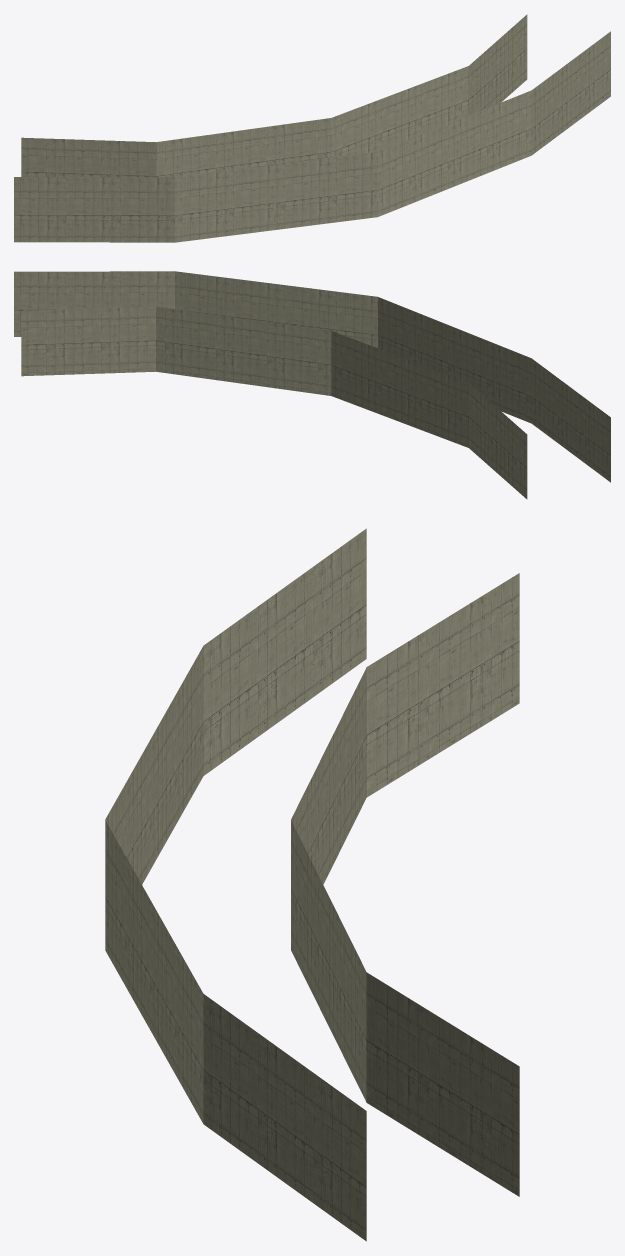
File: SM_Republic_06_00.fbx
3 views of the same model, one above another, from view 1: azimuth 30°, elevation 25°; view 2: azimuth 150°, elevation 25°; view 3: azimuth 270°, elevation 25° (orthographic). The views are drawn at different scales.
Visible parts, largest first — view 1: SM_Republic_06_00; view 2: SM_Republic_06_00; view 3: SM_Republic_06_00.
Boxes of the visible parts, x1,y1,x2,y2 form: SM_Republic_06_00: (14, 14, 610, 242); SM_Republic_06_00: (14, 271, 610, 499); SM_Republic_06_00: (105, 528, 519, 1241).
Bounding box in the file's own units: 15353 × 1605 × 4617.
